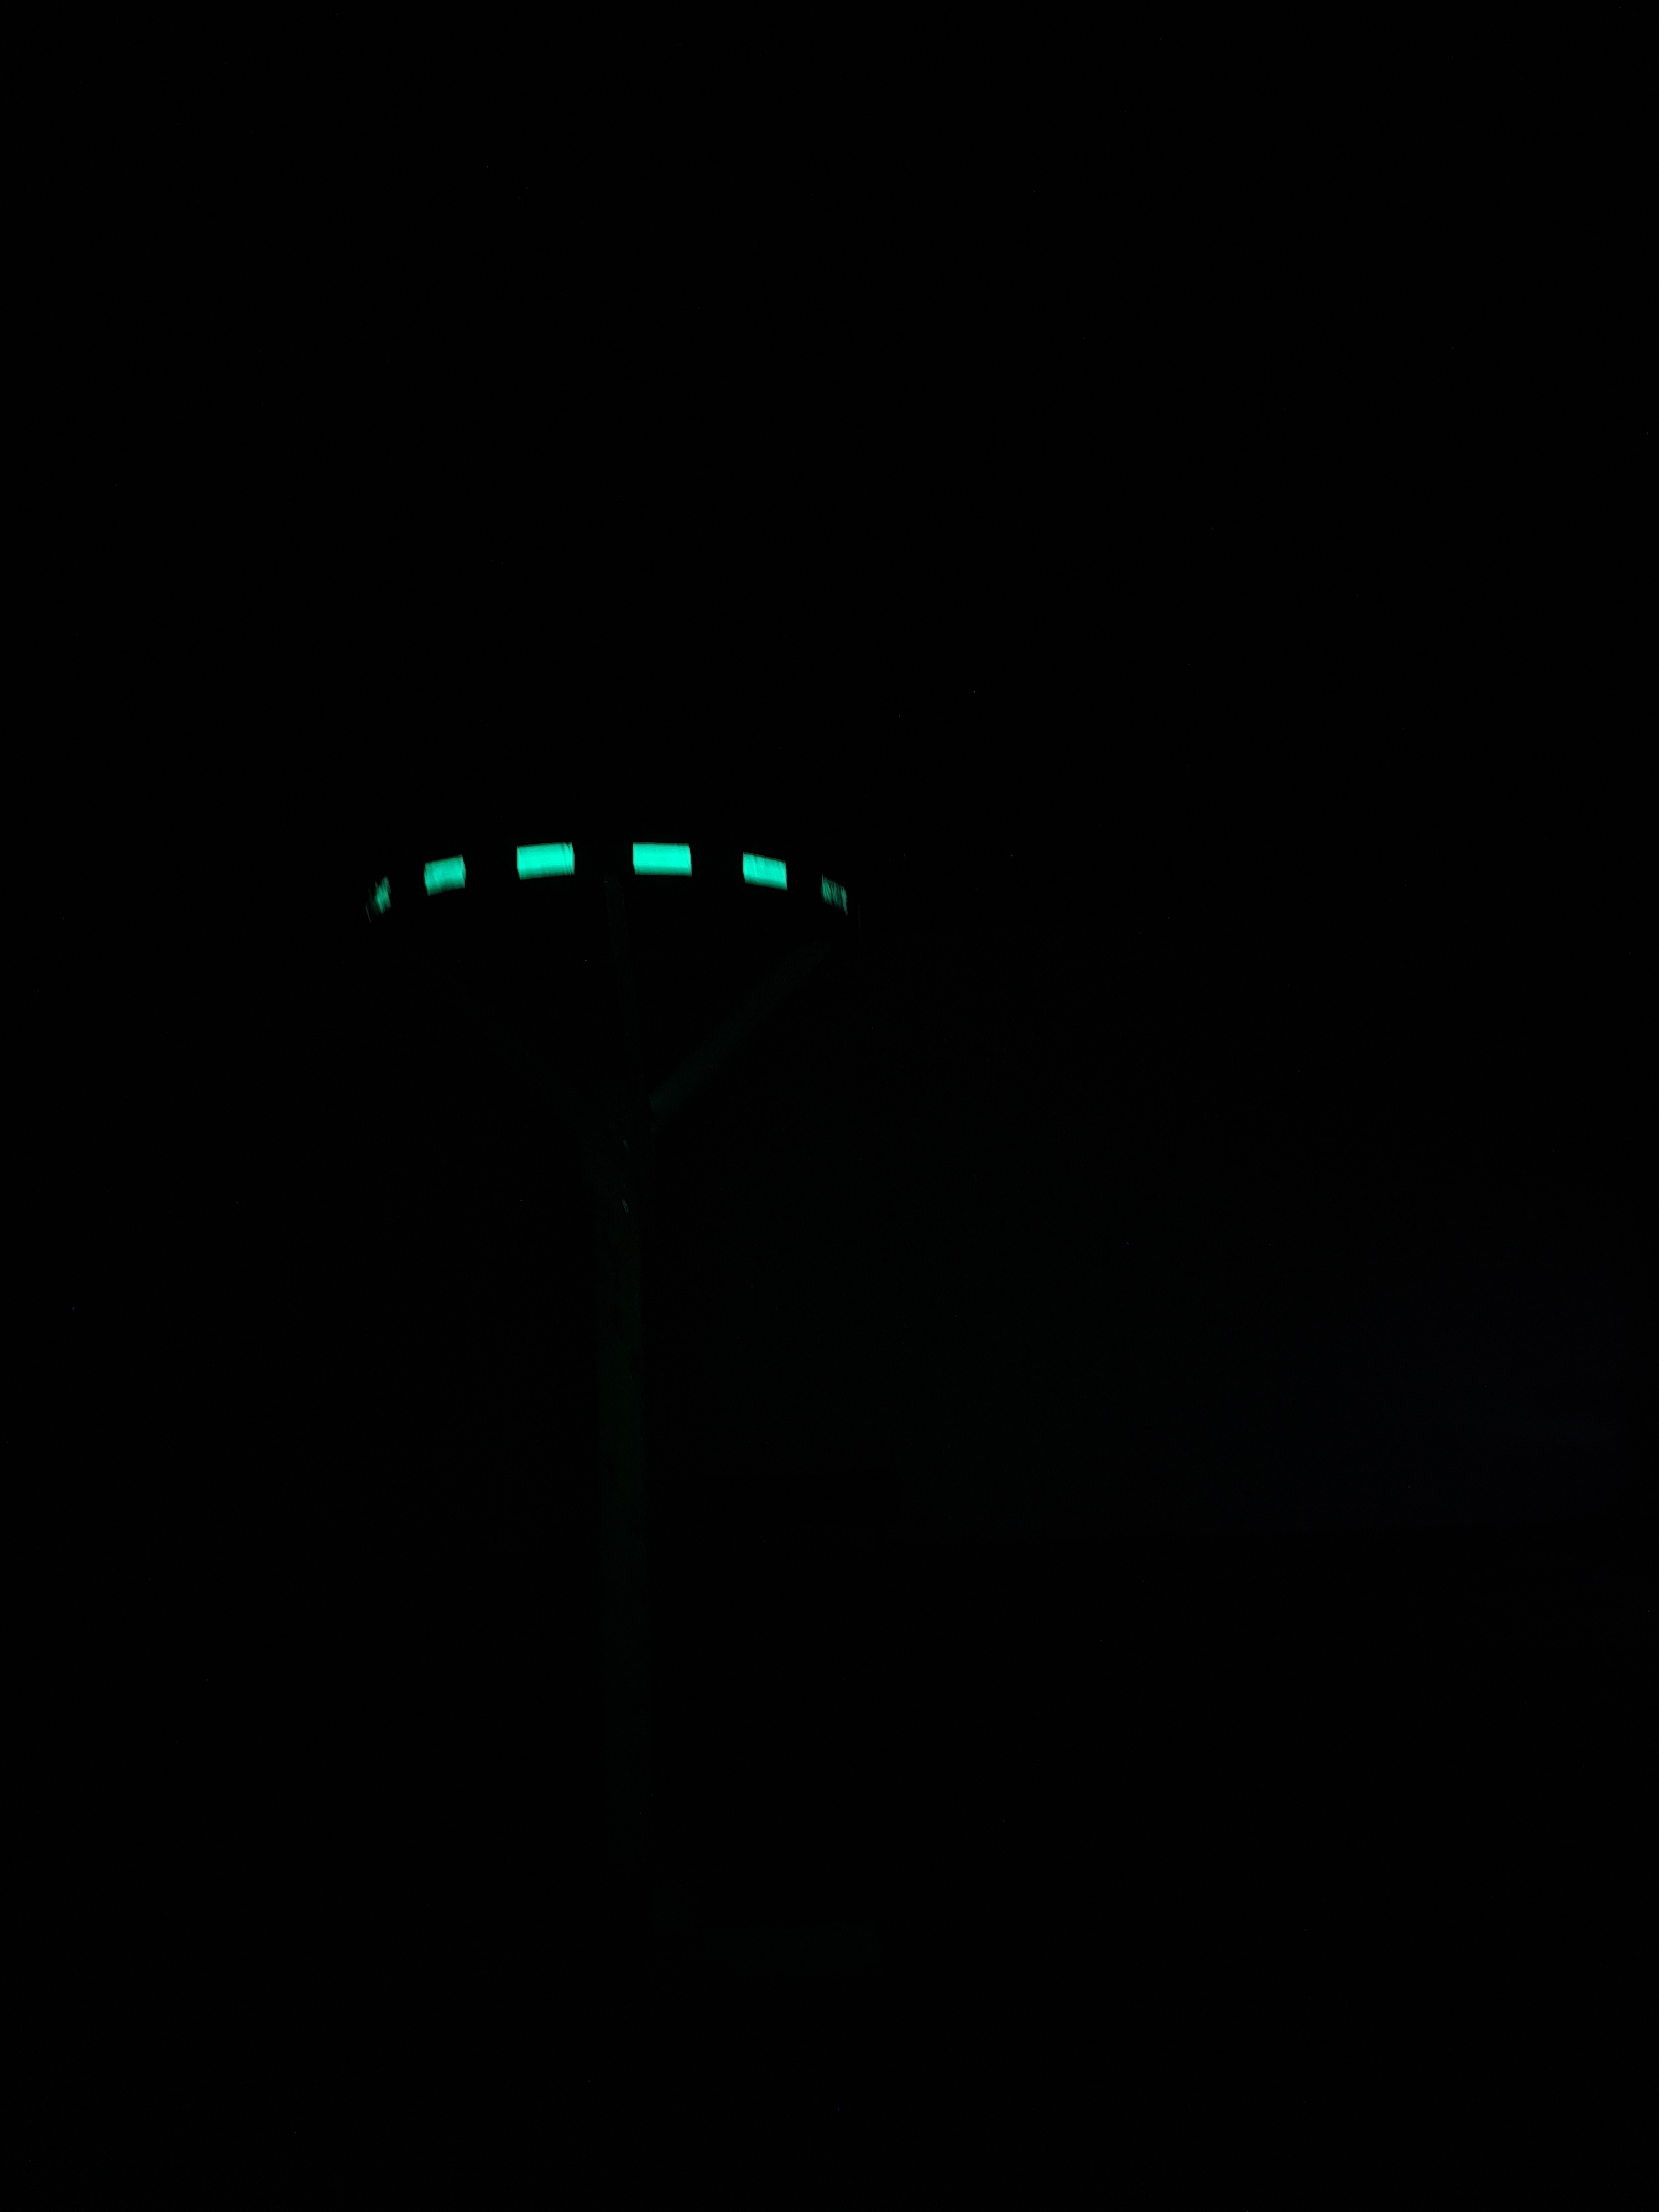hoop: (357, 836, 859, 928)
